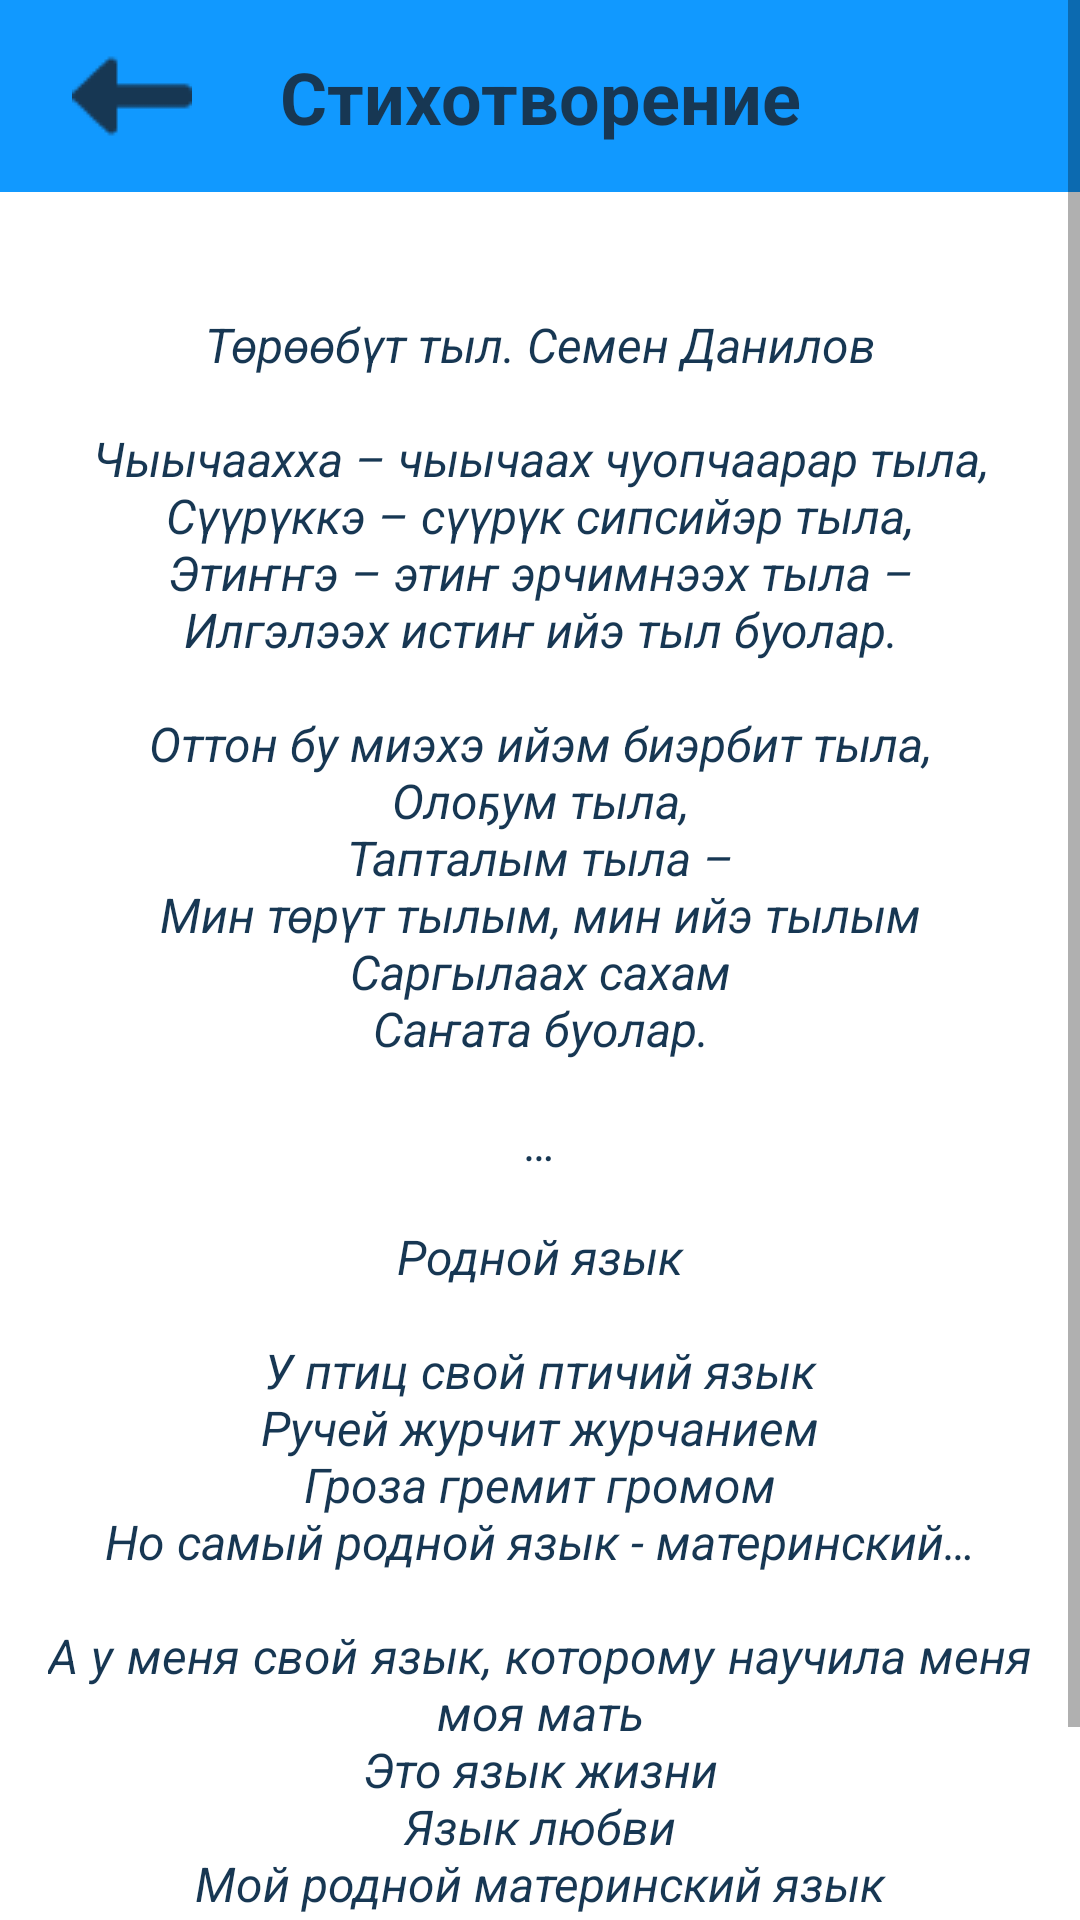

Screen size 1080w x 1920h. Icon name, then its center in pixels as [x,y]:
Кнопка назад: [132,96]
